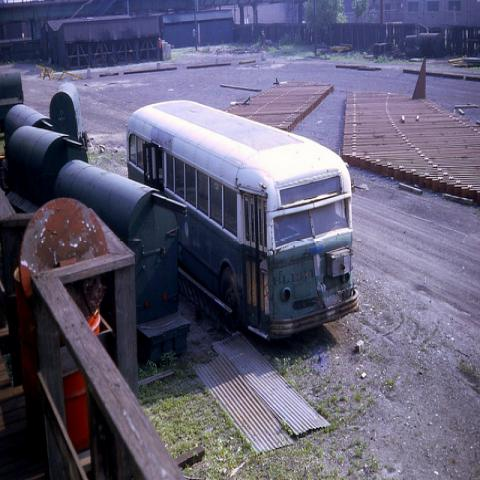bus: (125, 98, 362, 337)
